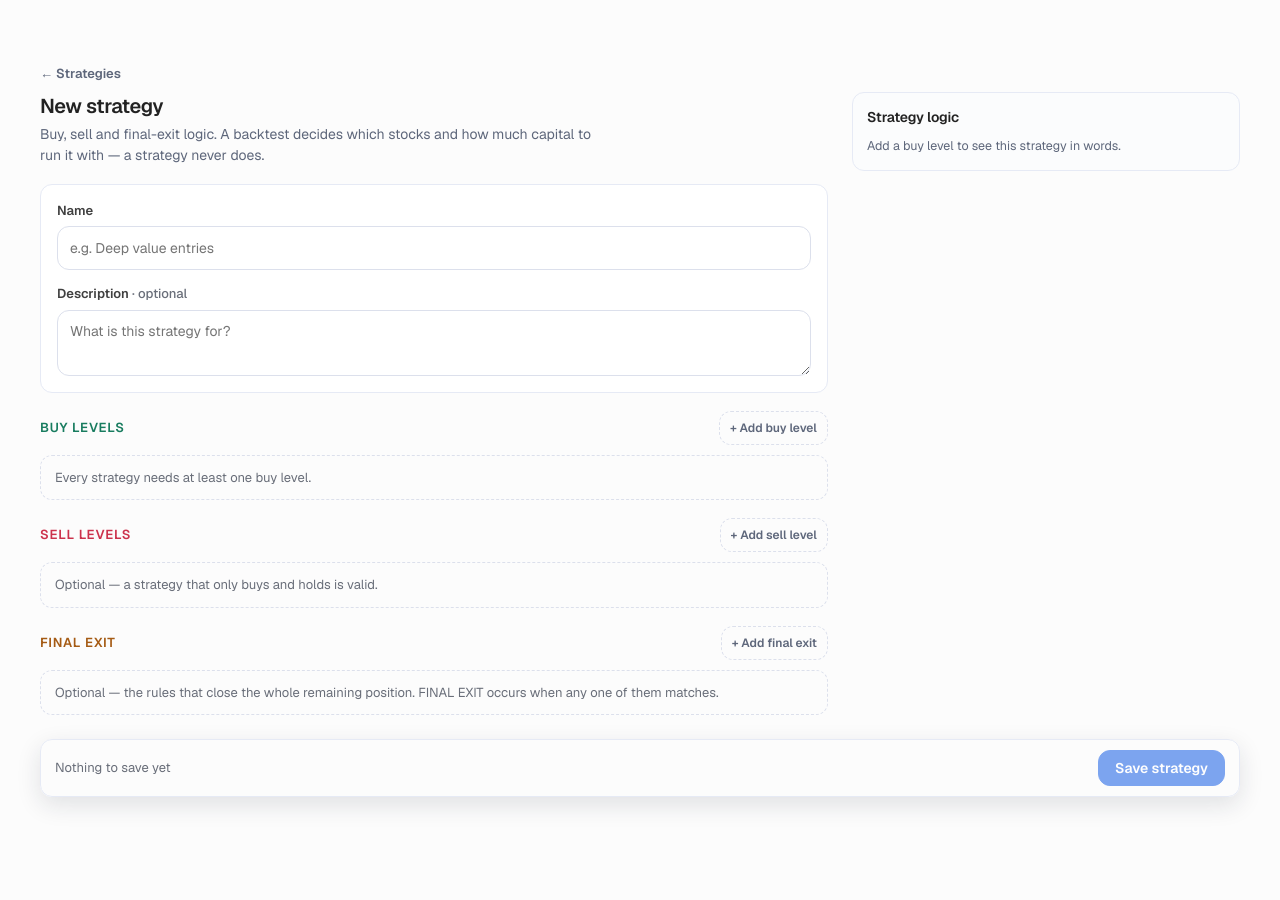
Test: StrategyBuilder › adds every row on the first category's first metric, never on an empty one
The width and height of the screenshot is (1280, 900).
What coordinates should you click on to do the following:
click the button with test id "add-level-BUY"
I would click on:
 (773, 428)
Its box is 719,410 -> 828,444.
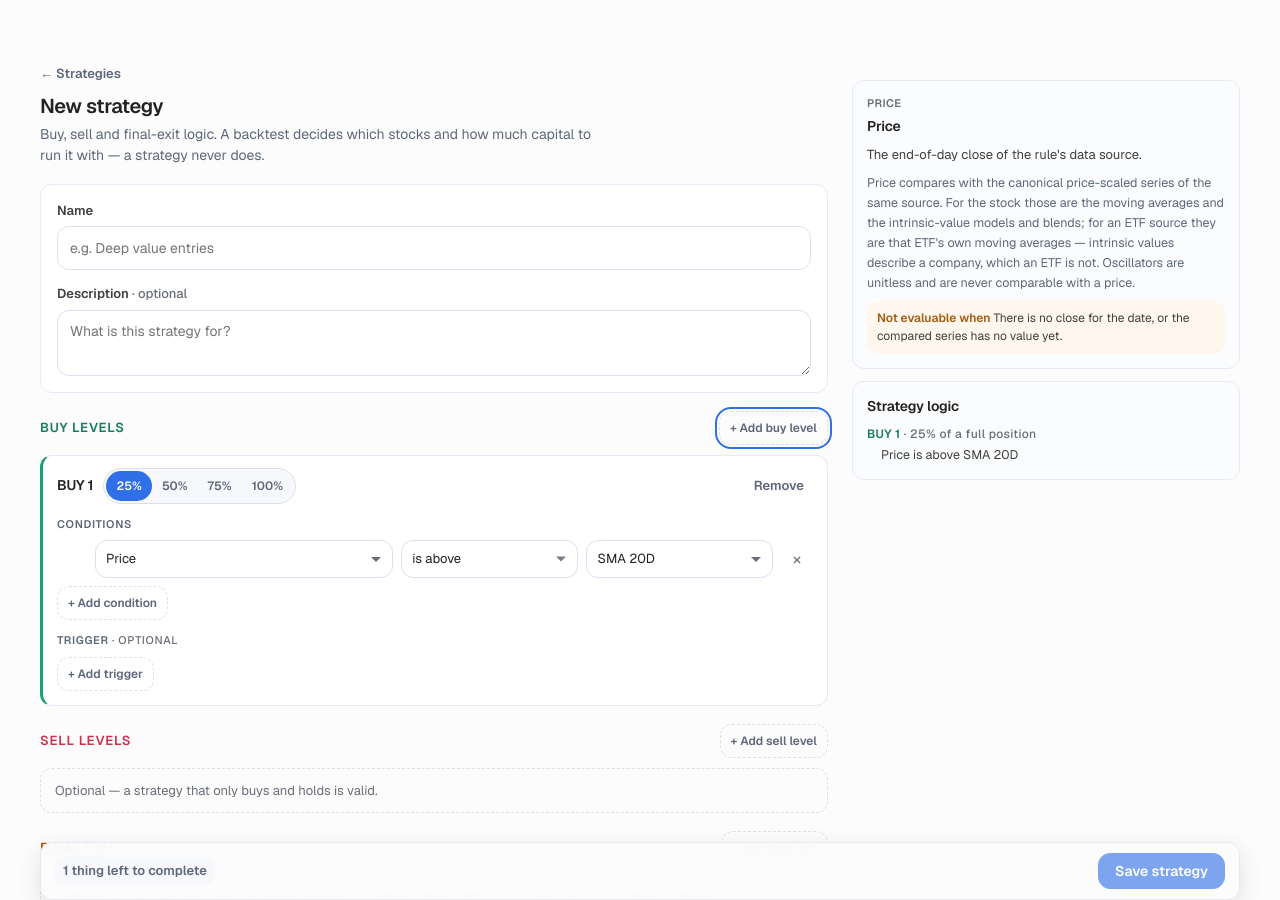
expect the text "Price" below "Conditions" is shown: met, box 106,550 -> 136,567
expect the dropdown with test id "operator-select" shows "is above": met, box 401,540 -> 578,578
expect the text "SMA 20D" is shown: met, box 598,550 -> 655,567
